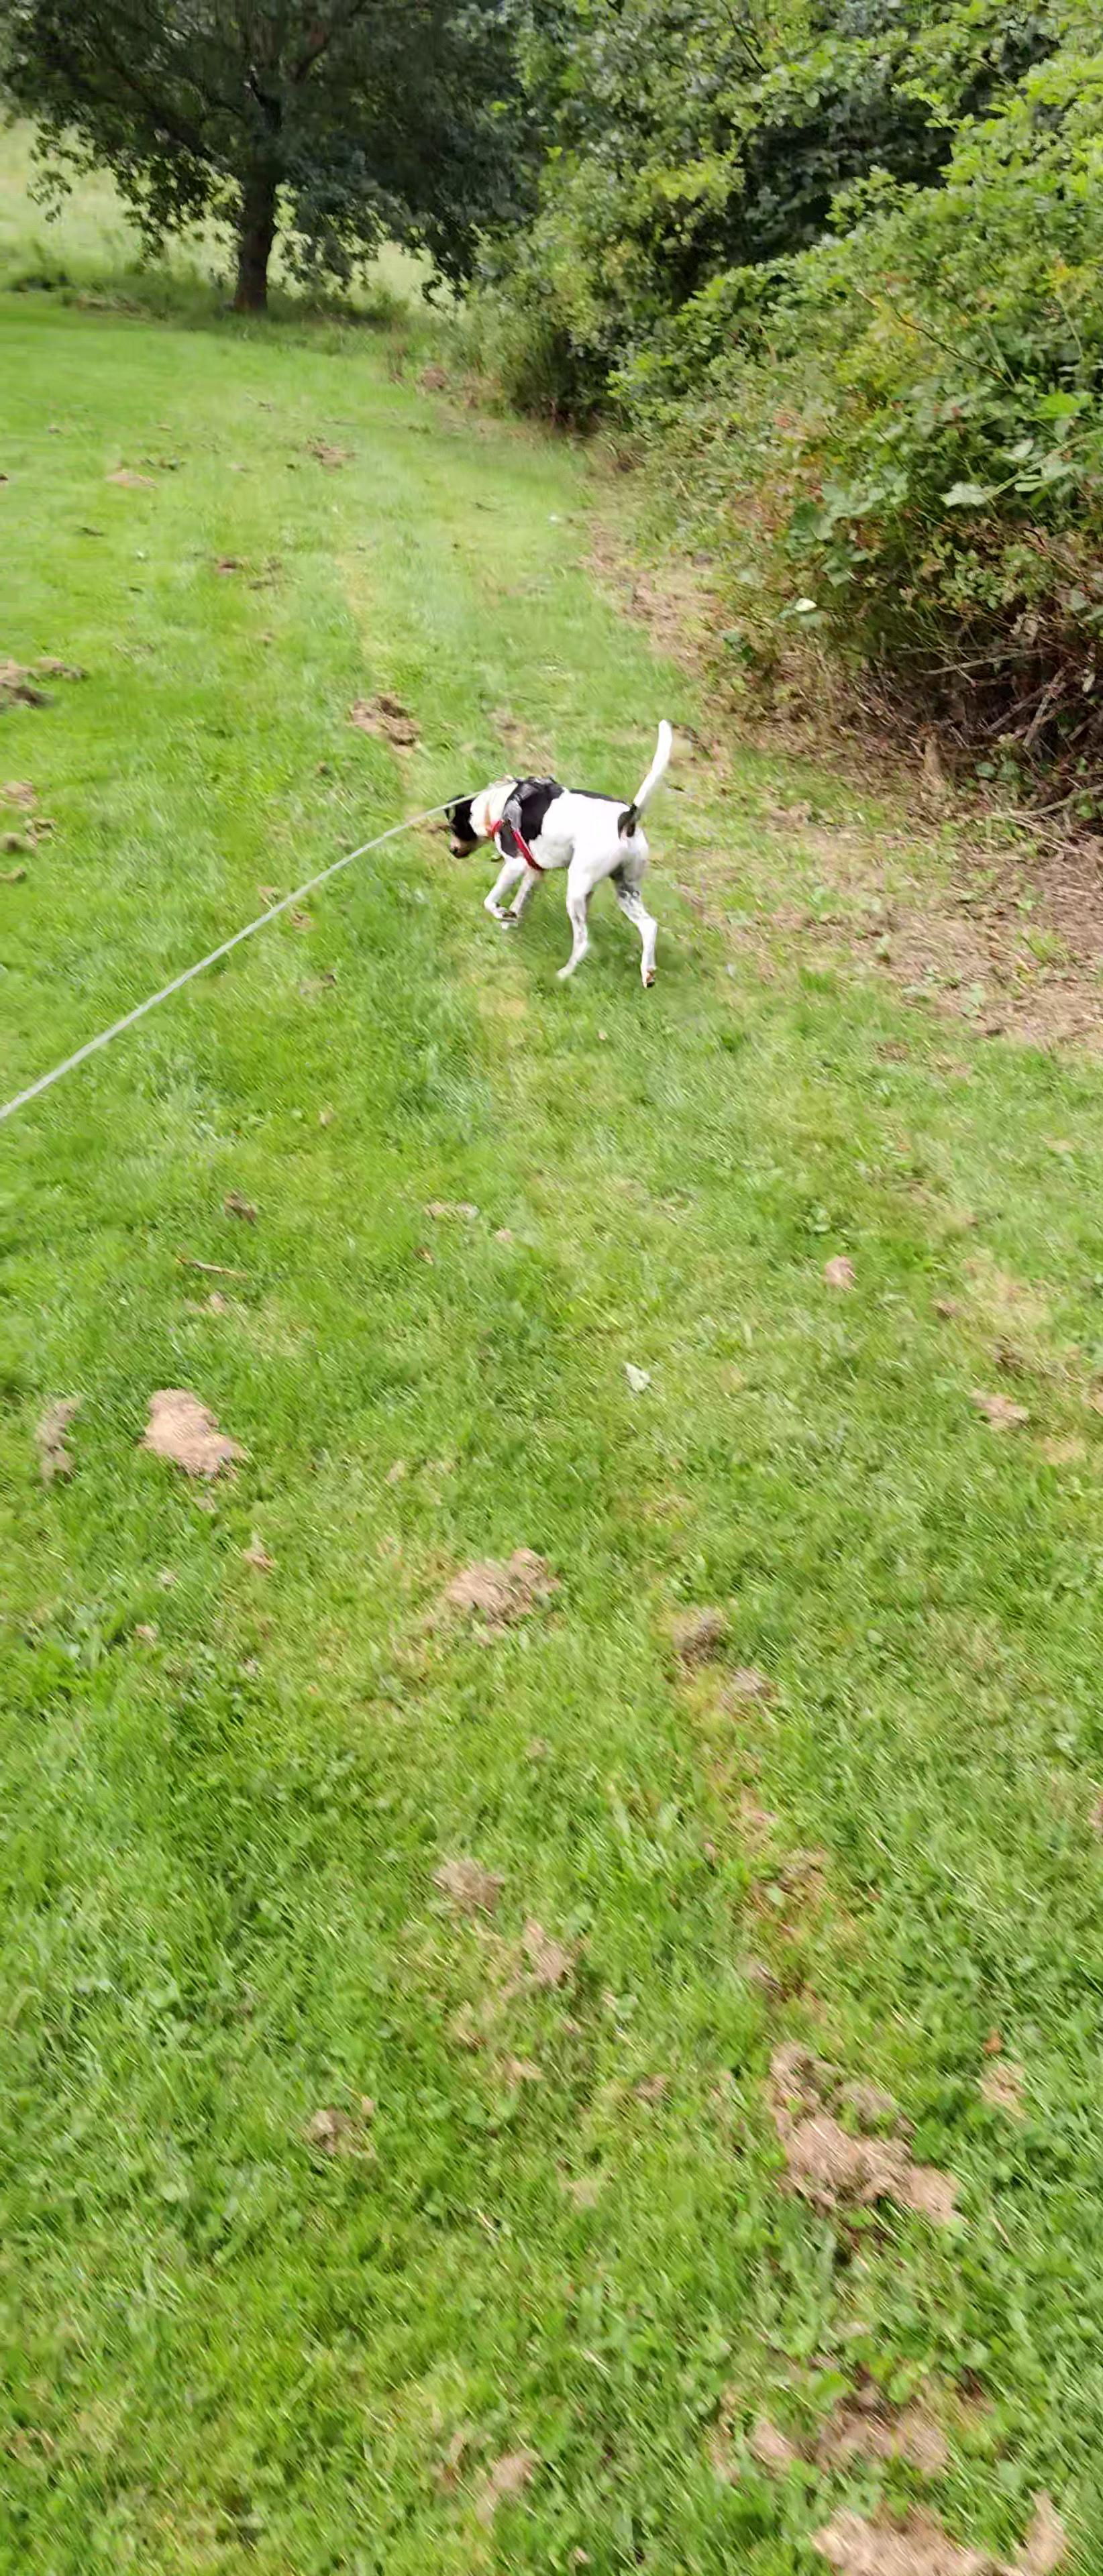Dog: (439, 711, 679, 989)
